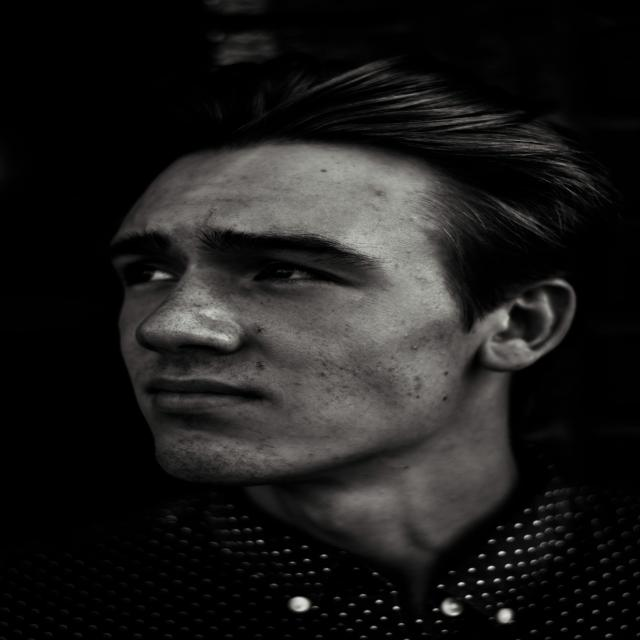adult: (34, 61, 632, 640)
